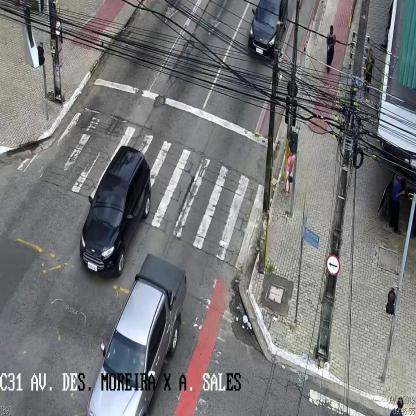car: (88, 254, 186, 415), (79, 145, 150, 278)
person: (389, 174, 405, 237), (282, 140, 295, 196), (363, 46, 374, 104), (325, 26, 336, 74)
